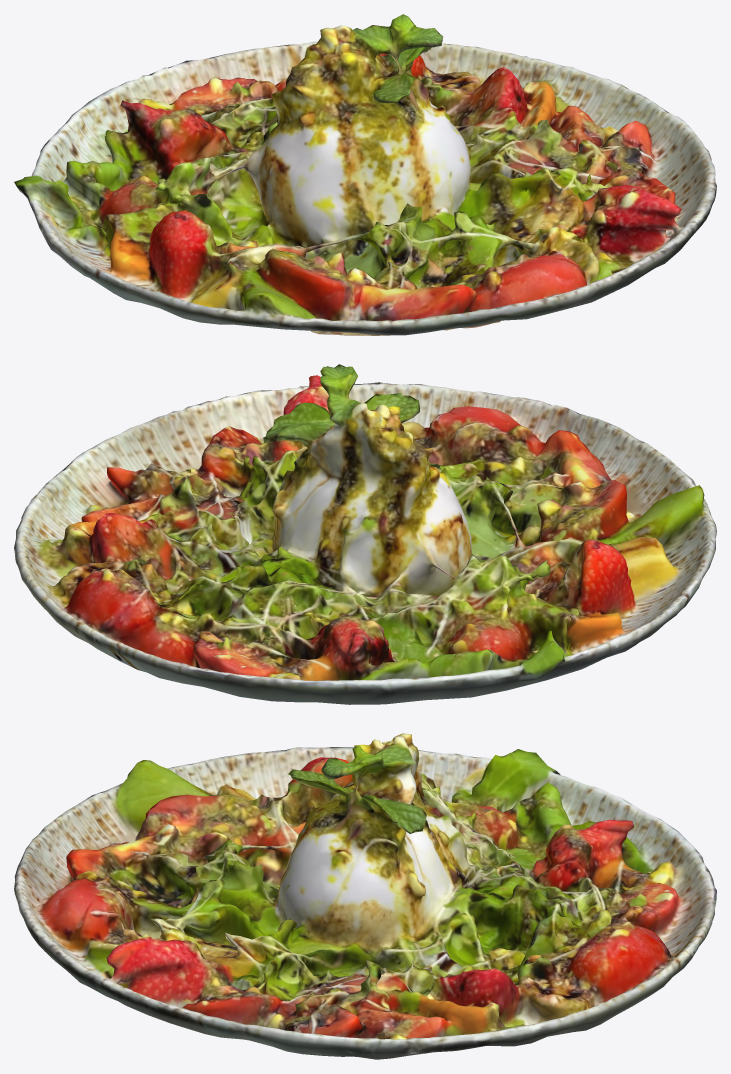
Rendered from burrata.glb.
3 renders of one model, top to bottom at view 1: azimuth 30°, elevation 25°; view 2: azimuth 150°, elevation 25°; view 3: azimuth 270°, elevation 25°, orthographic.
Parts seen in each view (by area): view 1: /ObjectCapture/Geometry/Mesh; view 2: /ObjectCapture/Geometry/Mesh; view 3: /ObjectCapture/Geometry/Mesh.
Boxes of the visible parts, x1,y1,x2,y2 form: /ObjectCapture/Geometry/Mesh: (14, 14, 716, 335); /ObjectCapture/Geometry/Mesh: (14, 364, 716, 704); /ObjectCapture/Geometry/Mesh: (14, 733, 716, 1059).
Bounding box in the file's own units: 0.2647 × 0.087 × 0.266.
1 material, 1 textured.
